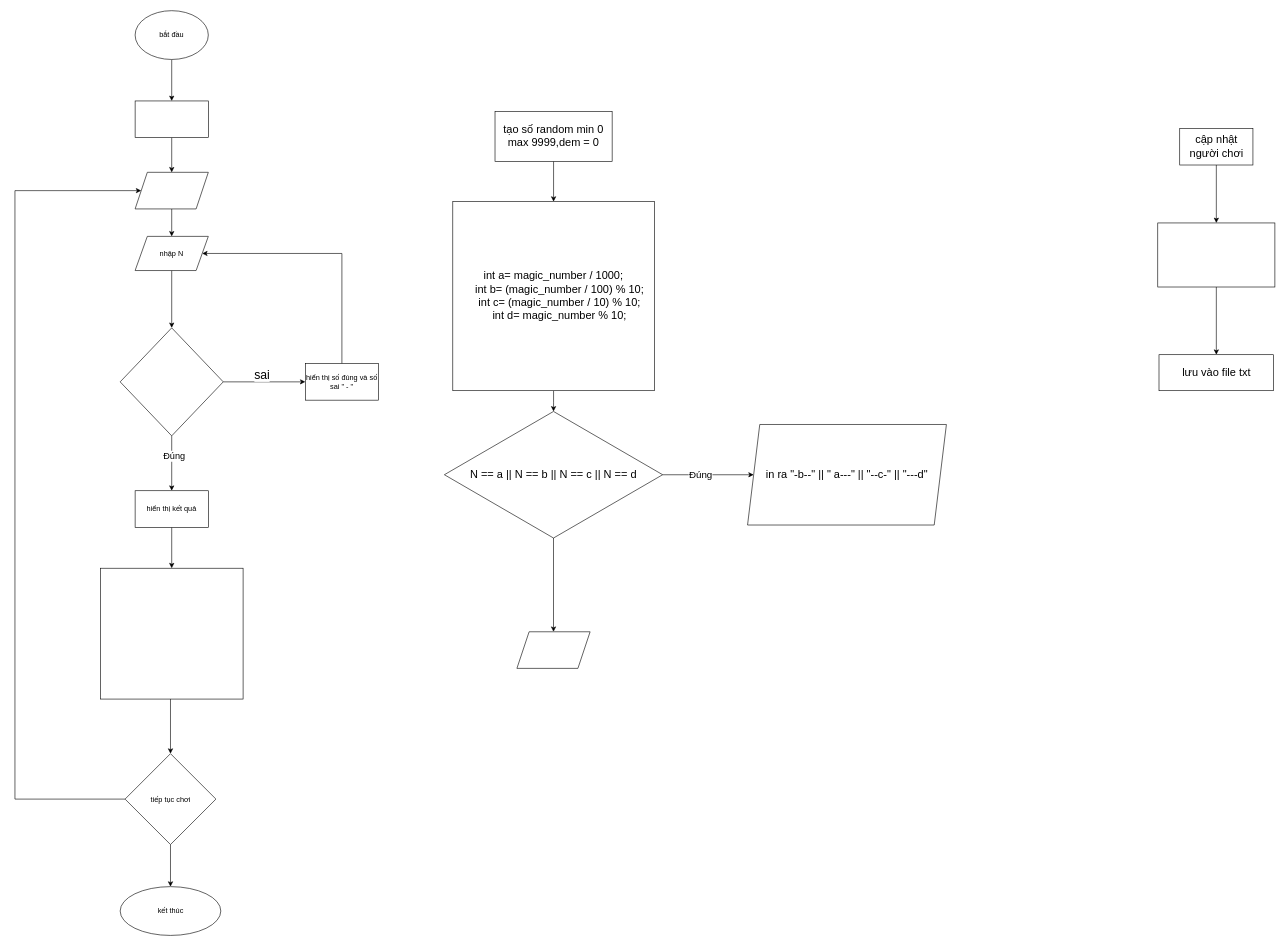
Image size: 1286x946. Some labels were removed from this diagram. Each missing label, with the centre of its shape:
cập nhật và in người chơi có điểm cao nhất: pixel 171 633
in " ---- ": pixel 553 649
Nhap nguoi choi: pixel 171 190
so sánh N vs r: pixel 171 381
struct{ ten nguoi choi so diem }: pixel 1216 254
tạo sô r = random(0,9999): pixel 171 119
